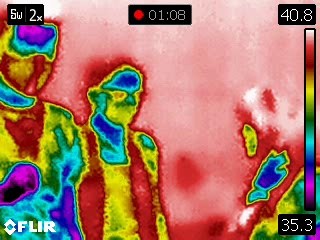human: (1, 14, 86, 240), (71, 57, 168, 240), (230, 87, 320, 240)
